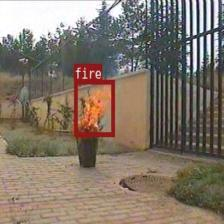fire: (74, 79, 114, 136)
